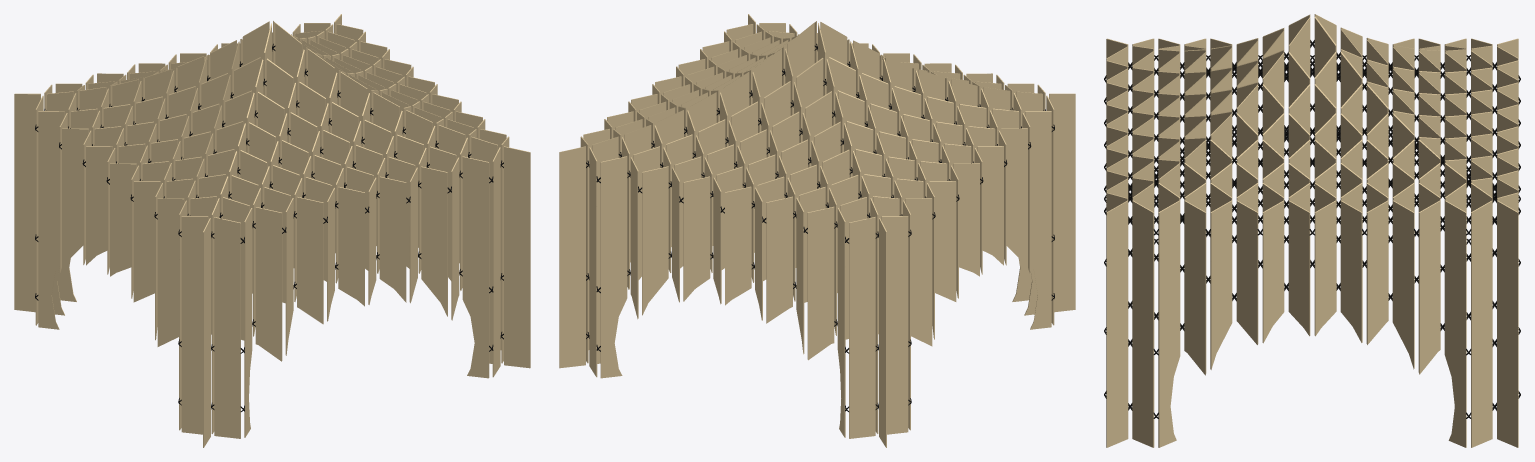
The model's file is Mina.fbx.
3 renders of one model, left to right at view 1: azimuth 30°, elevation 25°; view 2: azimuth 150°, elevation 25°; view 3: azimuth 270°, elevation 25°, orthographic. The views are drawn at different scales.
Parts seen in each view (by area): view 1: Mina_Baked; view 2: Mina_Baked; view 3: Mina_Baked.
Part boxes in pixels (x1=…): Mina_Baked: x1=14, y1=14, x2=530, y2=447; Mina_Baked: x1=559, y1=14, x2=1075, y2=447; Mina_Baked: x1=1104, y1=14, x2=1520, y2=447.
Bounding box in the file's own units: 1118 × 1023 × 1118.
1 material, 1 textured.
